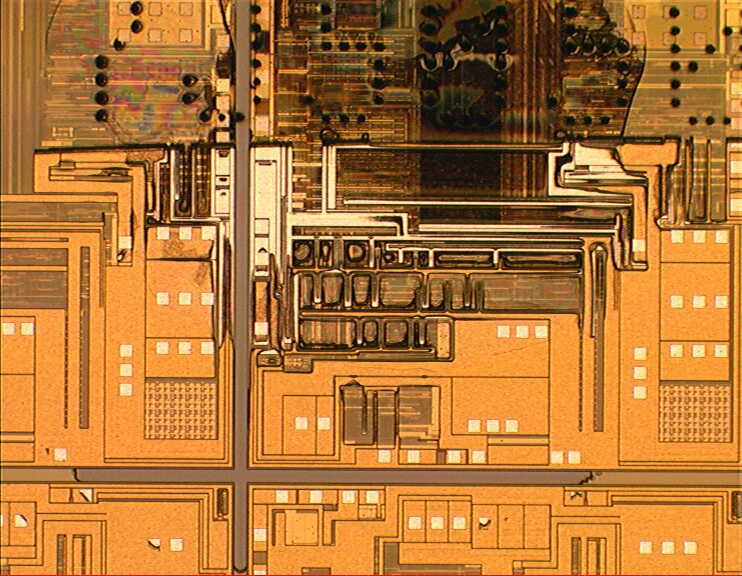COATING BAD: (42, 1, 742, 374)
